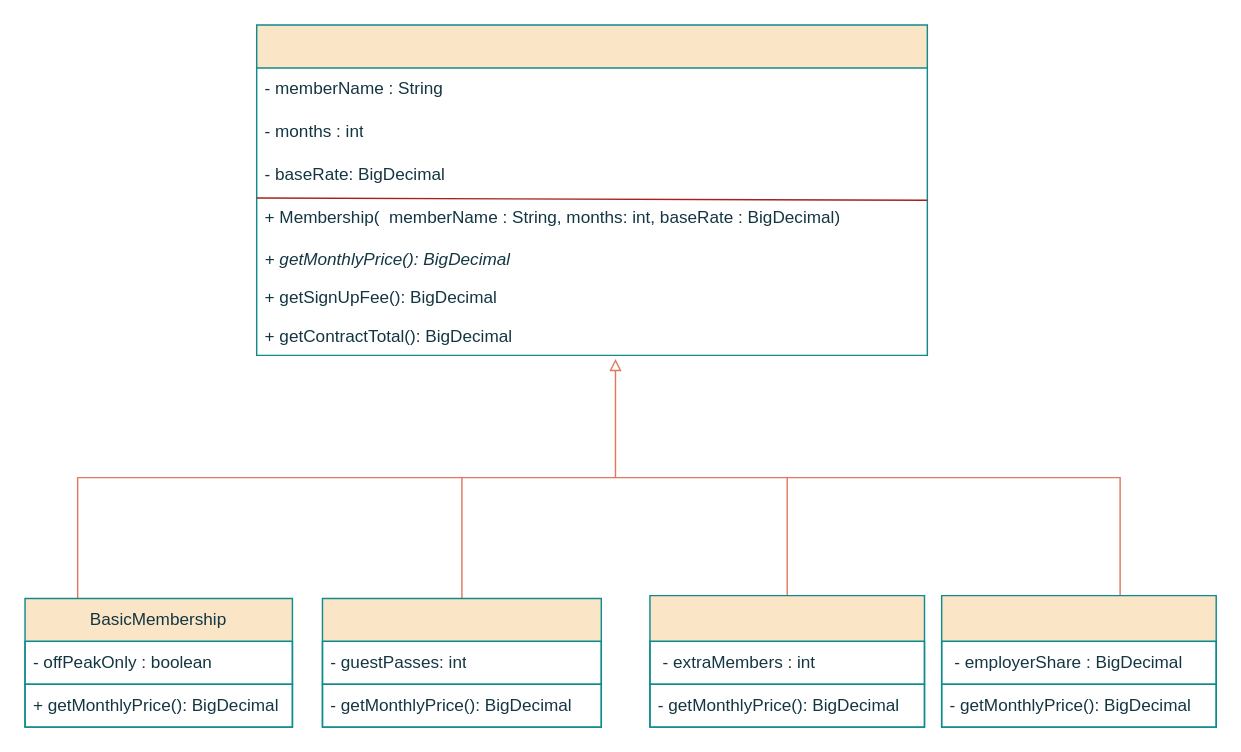
This 1241x752 diagram has some shape labels left out. Each missing label, with the box of its shape:
<<abstract>> Membership: (255, 24, 927, 355)
CorporateMembership: (940, 594, 1216, 727)
FamilyMembership: (649, 594, 924, 727)
PremiumMembership: (321, 597, 601, 727)
